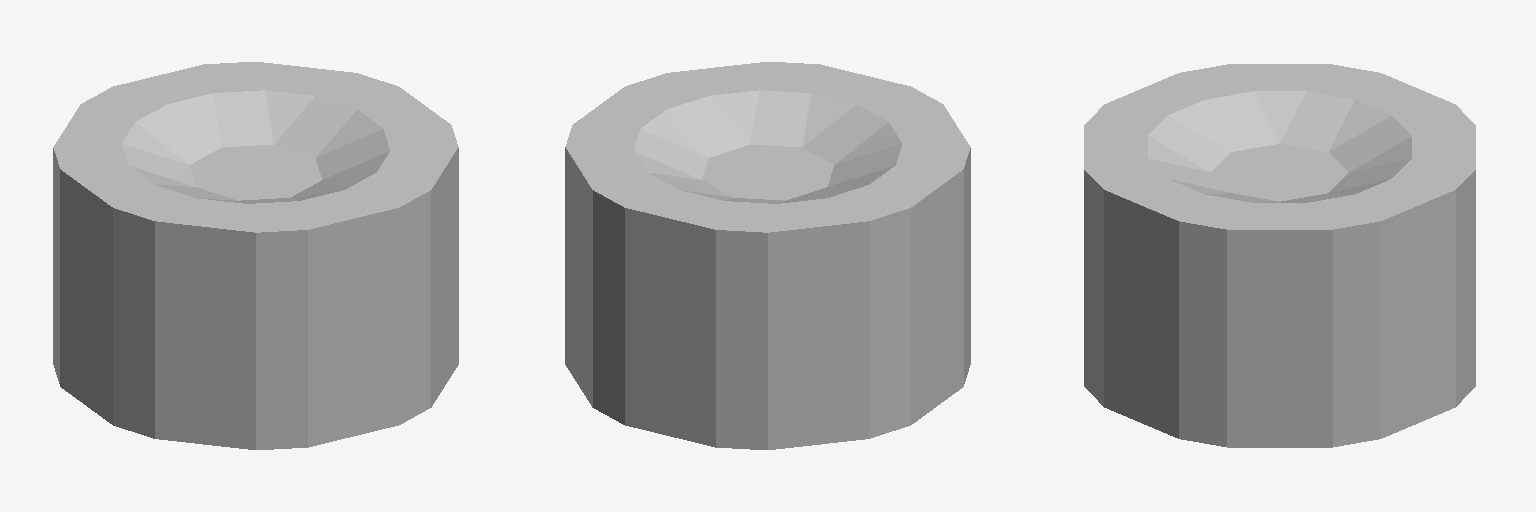
The model's file is SallePodium.obj.
3 views of the same model, side by side, from view 1: azimuth 30°, elevation 25°; view 2: azimuth 150°, elevation 25°; view 3: azimuth 270°, elevation 25° (orthographic).
Bounding box in the file's own units: 18.04 × 11.07 × 18.04.